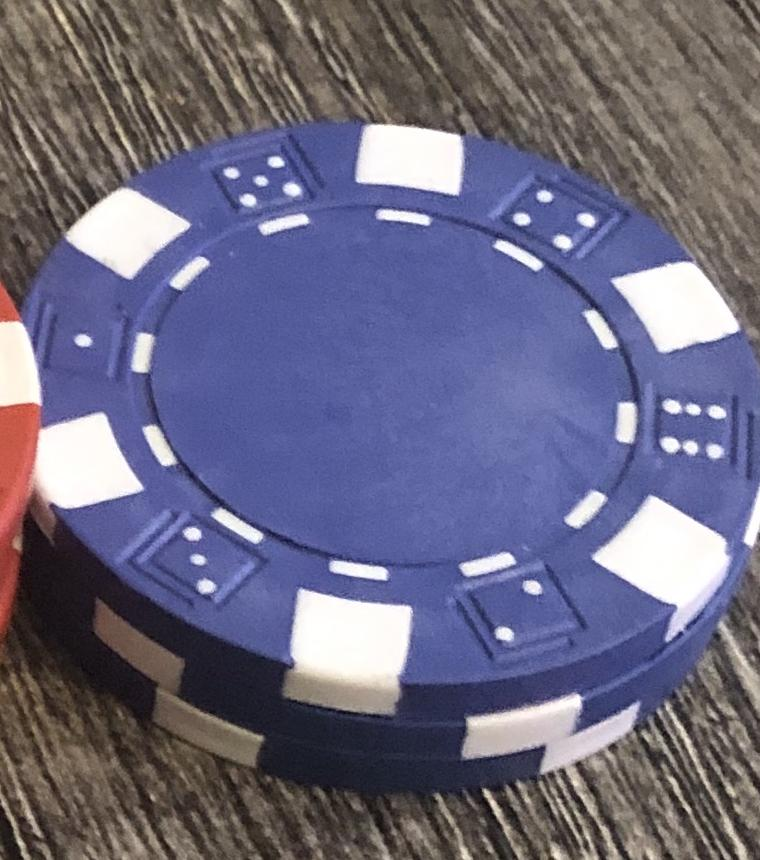Chip: (1, 1, 760, 860)
